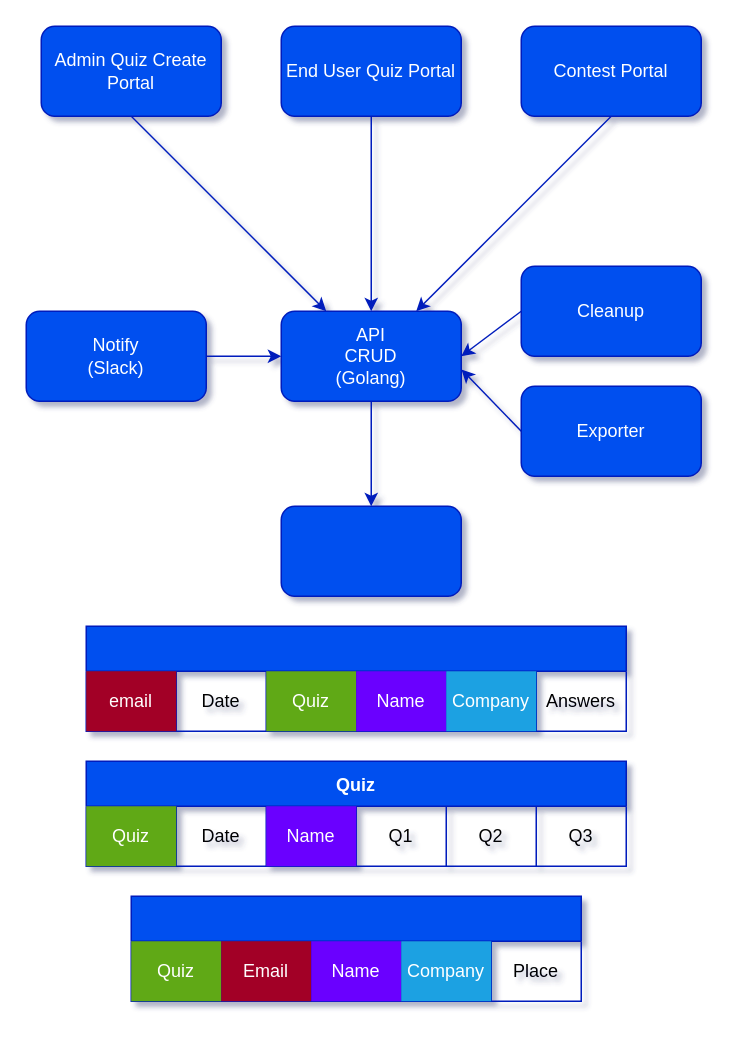
This 737x1037 diagram has some shape labels left out. The shapes that lost their labels are listed below. From the top down, each one's box as (x1, y1, x2, y2) in pixels, then its label:
(280, 505, 461, 596): Postgres DB
(85, 625, 626, 731): Users
(130, 895, 581, 1001): Winners
